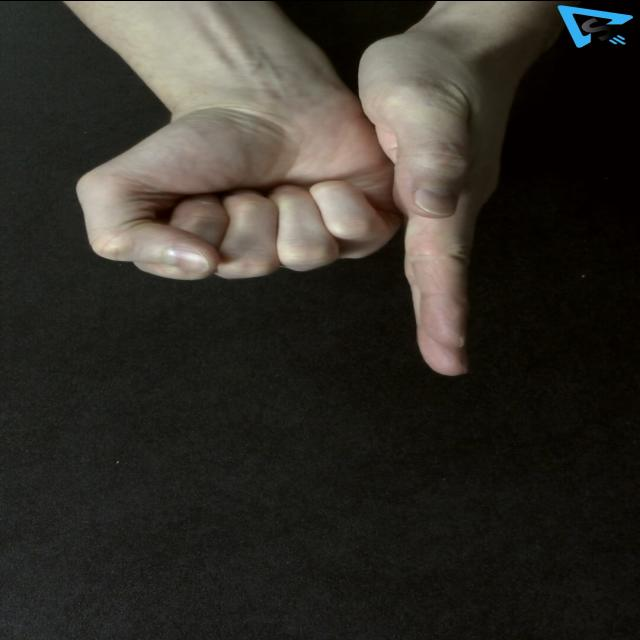Rock: (76, 88, 402, 279)
